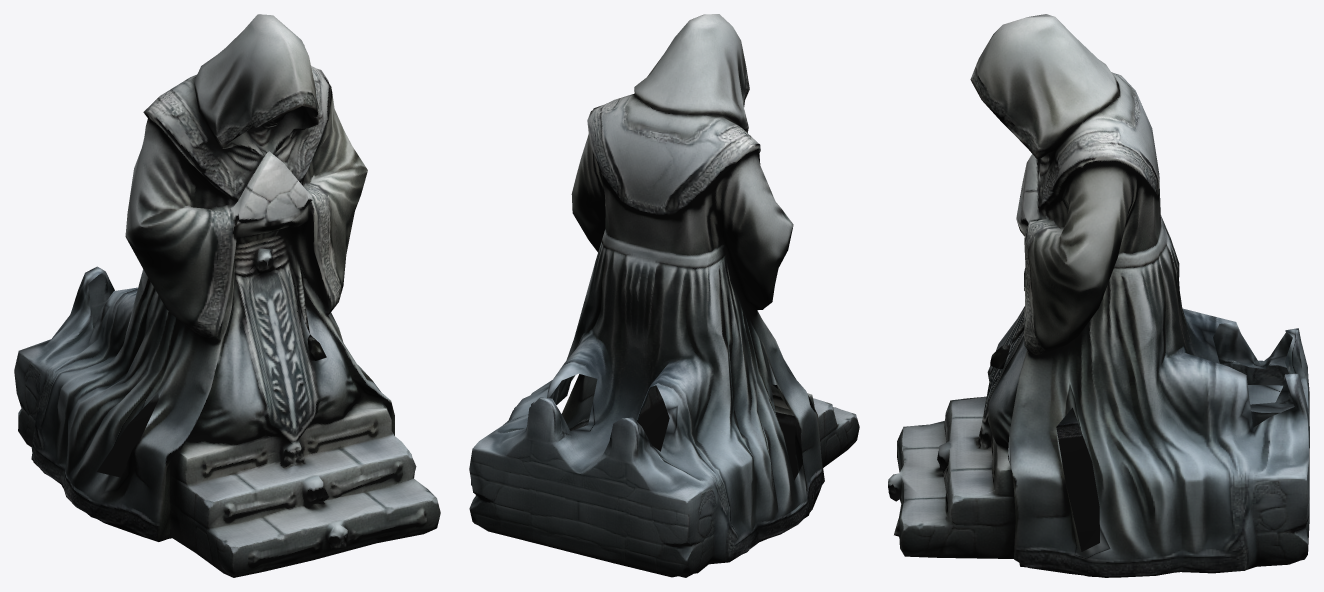
File: stair-acolyte.glb
3 views of the same model, side by side, from view 1: azimuth 30°, elevation 25°; view 2: azimuth 150°, elevation 25°; view 3: azimuth 270°, elevation 25° (orthographic). The views are drawn at different scales.
Parts seen in each view (by area): view 1: geometry_0; view 2: geometry_0; view 3: geometry_0.
Boxes of the visible parts, x1,y1,x2,y2 form: geometry_0: (14,14,440,577); geometry_0: (469,14,859,577); geometry_0: (888,14,1309,577).
Bounding box in the file's own units: 0.6328 × 0.9942 × 0.7717.
Materials: 1 (1 with a texture image).
